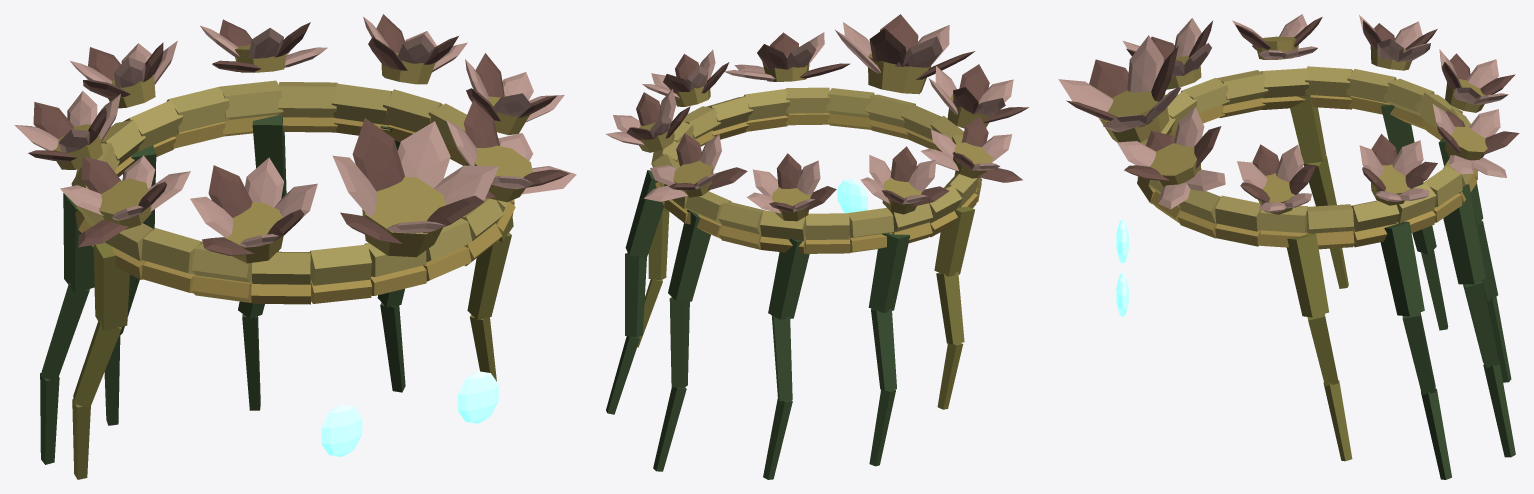
The model's file is sunken_headwoman_crown.glb.
3 views of the same model, side by side, from view 1: azimuth 30°, elevation 25°; view 2: azimuth 150°, elevation 25°; view 3: azimuth 270°, elevation 25° (orthographic). The views are drawn at different scales.
Visible parts, largest first — view 1: sunken_headwoman_crown; view 2: sunken_headwoman_crown; view 3: sunken_headwoman_crown.
Part boxes in pixels (x1,y1,x2,y2): sunken_headwoman_crown: (14, 14, 576, 479); sunken_headwoman_crown: (605, 14, 1028, 479); sunken_headwoman_crown: (1058, 14, 1519, 479).
Size of the model in its own units: 1.37 by 1.24 by 1.39.
